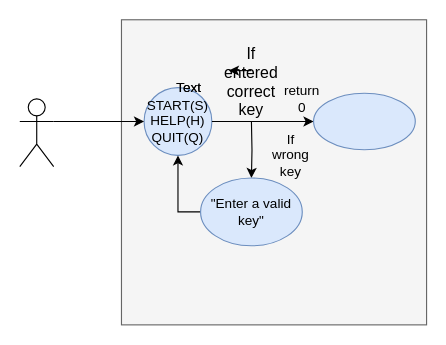
The diagram is 446 pixels wide and 345 high, and some of its shapes have lost their labels. The shapes that lost their labels are listed below. From the top down, each one's box as (x1, y1, x2, y2) in pixels, then its label:
(19, 98, 54, 167): Actor
(312, 92, 415, 150): Exit
